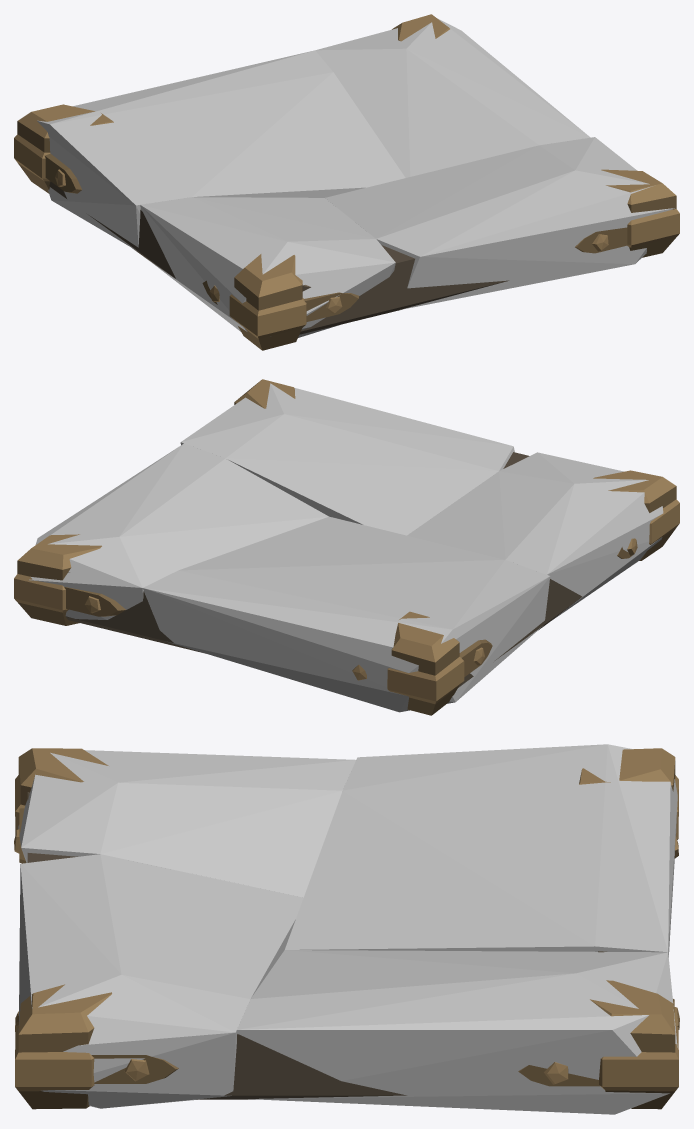
The model's file is SM_Prop_Crate02_lid.fbx.
The picture shows the model from 3 angles, top to bottom: view 1: azimuth 30°, elevation 25°; view 2: azimuth 150°, elevation 25°; view 3: azimuth 270°, elevation 25°; orthographic projection. The views are drawn at different scales.
Parts seen in each view (by area): view 1: SM_Prop_Crate02_lid_ConvexHulls, SM_Prop_Crate02_lid; view 2: SM_Prop_Crate02_lid_ConvexHulls, SM_Prop_Crate02_lid; view 3: SM_Prop_Crate02_lid_ConvexHulls, SM_Prop_Crate02_lid.
Boxes of the visible parts, <box> form: SM_Prop_Crate02_lid_ConvexHulls: <box>37,18,674,337</box>; SM_Prop_Crate02_lid: <box>14,14,679,350</box>; SM_Prop_Crate02_lid_ConvexHulls: <box>29,383,663,712</box>; SM_Prop_Crate02_lid: <box>14,379,679,715</box>; SM_Prop_Crate02_lid_ConvexHulls: <box>18,744,677,1114</box>; SM_Prop_Crate02_lid: <box>14,748,679,1109</box>.
Bounding box in the file's own units: 91.02 × 91.01 × 15.25.
Materials: 2 (1 with a texture image).
